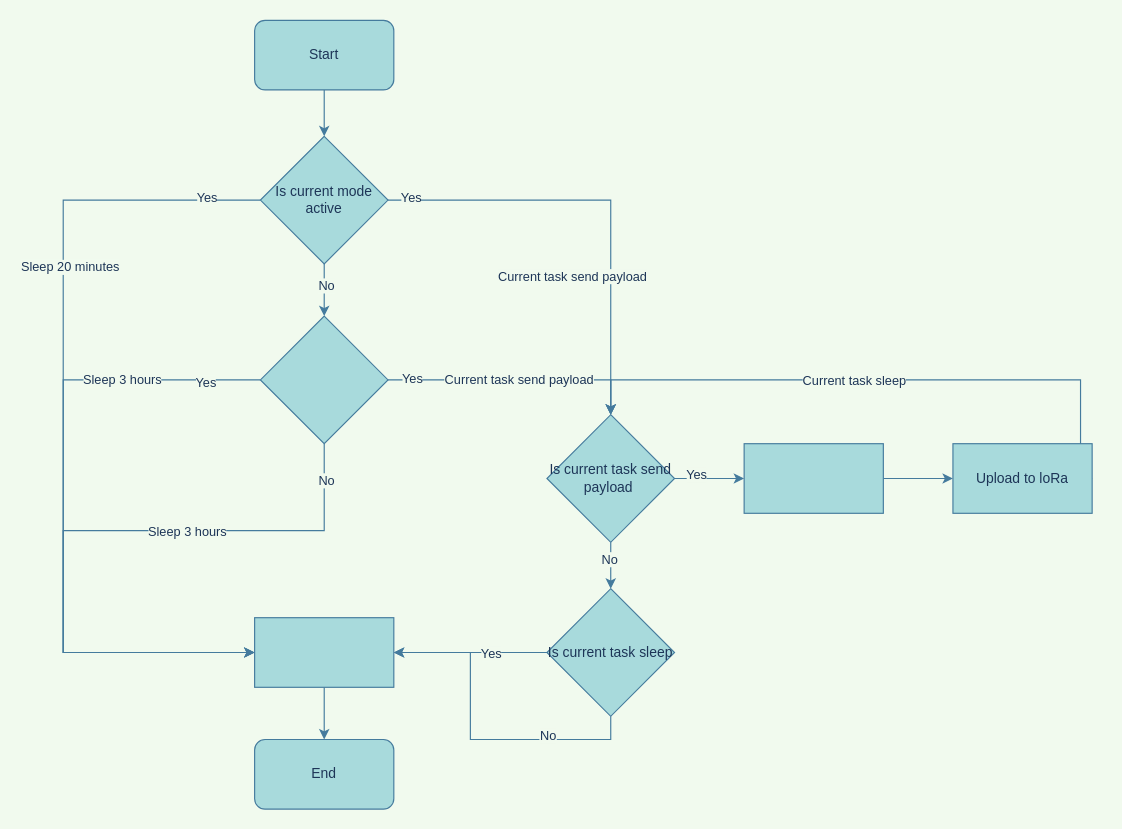
Image size: 1122x829. Some labels were removed from this diagram. Each missing label, with the centre of its shape:
"Is current mode normal" goes at point 323,379.
"Sleep x" goes at point 323,652.
"Take measurement" goes at point 813,478.
